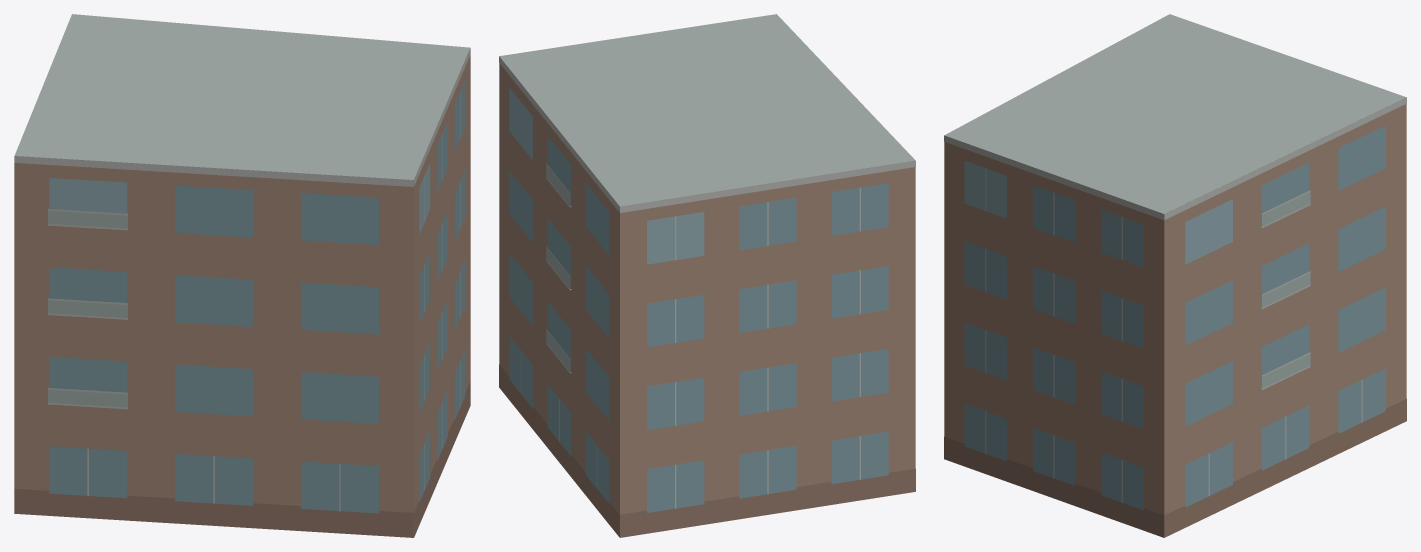
The model's file is survey-upis-32705497.glb.
3 views of the same model, side by side, from view 1: azimuth 30°, elevation 25°; view 2: azimuth 150°, elevation 25°; view 3: azimuth 270°, elevation 25° (orthographic). The views are drawn at different scales.
Visible parts, largest first — view 1: survey-upis-32705497.tmp; view 2: survey-upis-32705497.tmp; view 3: survey-upis-32705497.tmp.
Part boxes in pixels (x1=…): survey-upis-32705497.tmp: x1=14, y1=14, x2=470, y2=537; survey-upis-32705497.tmp: x1=499, y1=14, x2=915, y2=537; survey-upis-32705497.tmp: x1=944, y1=14, x2=1406, y2=537.
Bounding box in the file's own units: 16.71 × 12.6 × 16.32.
